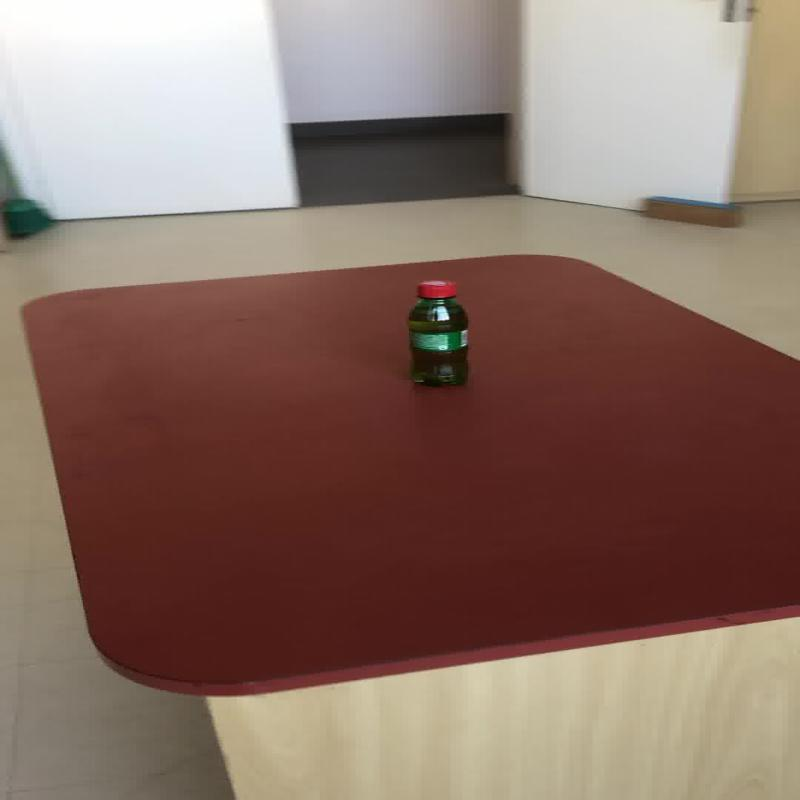guarana: (404, 278, 470, 386)
